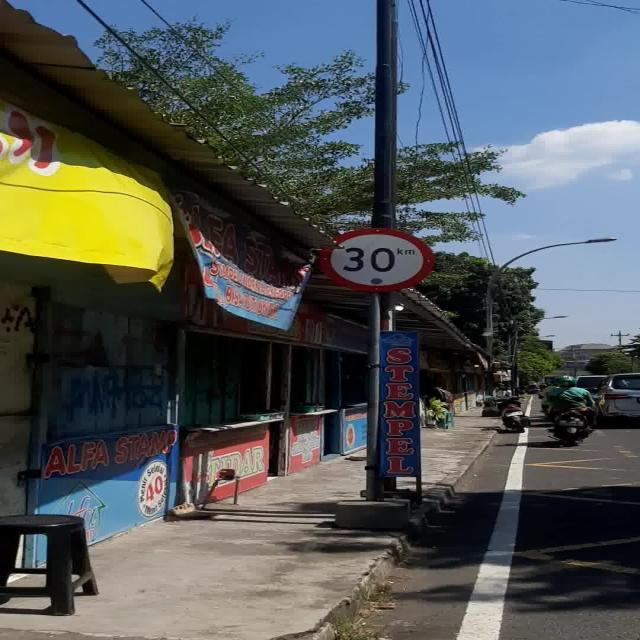Kecepatan Maks. 30 km: (320, 228, 434, 292)
